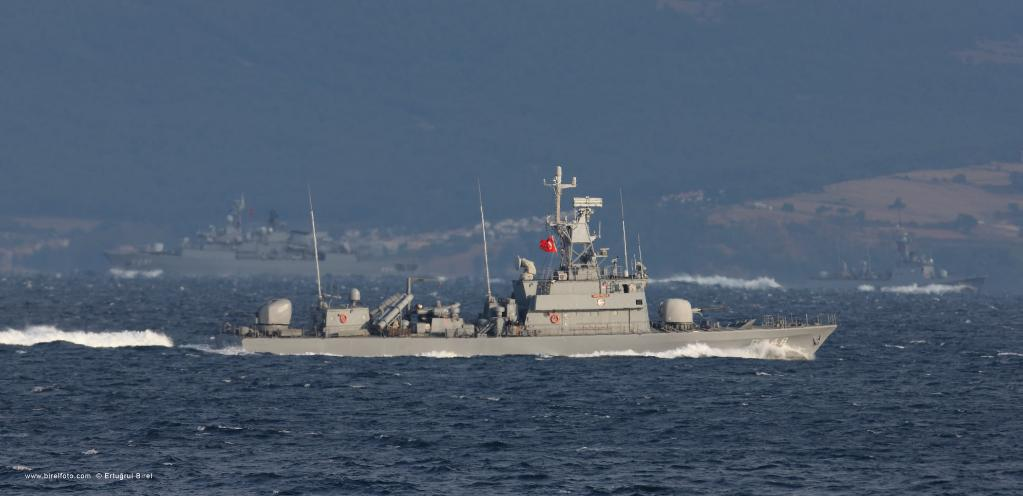Warship: (202, 142, 858, 382), (97, 174, 437, 282), (800, 215, 992, 309)
